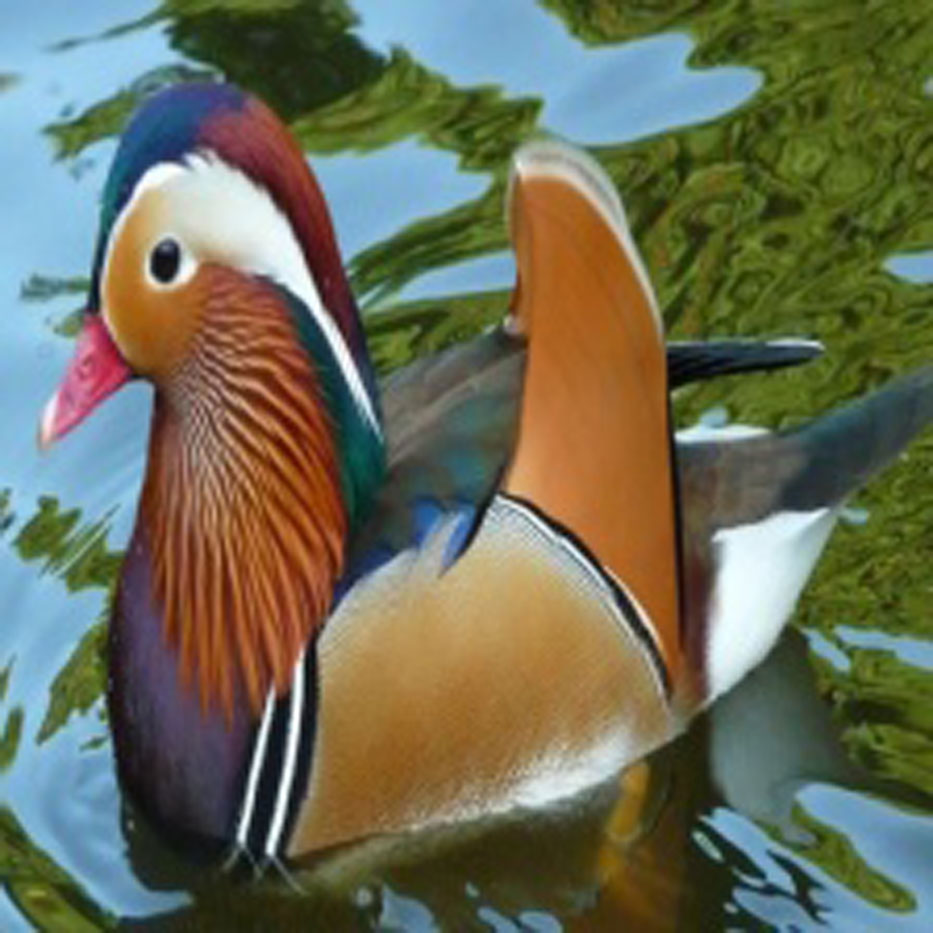Mencari Makan di Lumpur: (17, 324, 126, 465)
